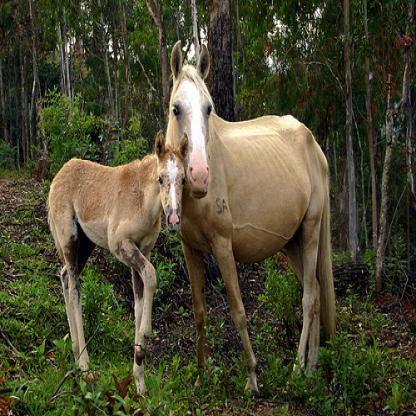horse: (164, 42, 334, 398), (46, 128, 189, 396)
